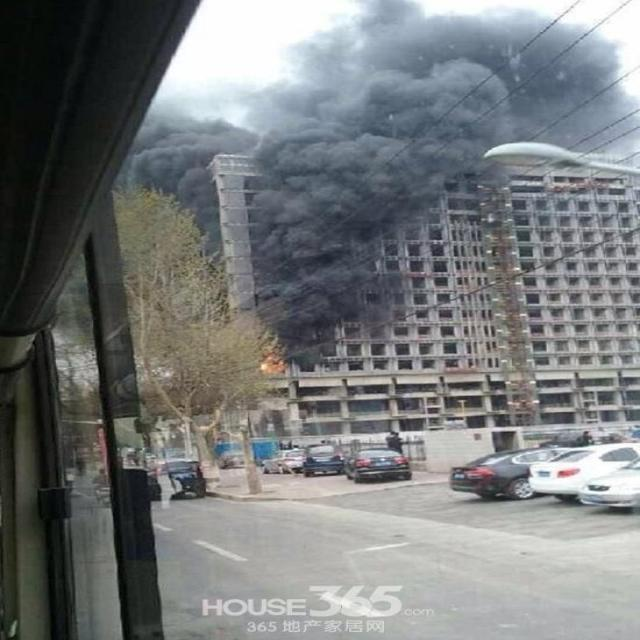Fire: (259, 354, 284, 374)
Smoke: (111, 0, 640, 365)
